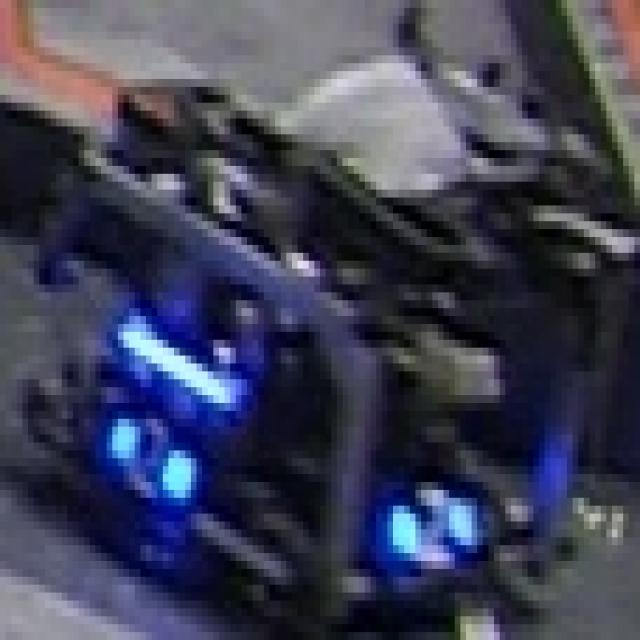B2: (379, 462, 491, 589), (93, 391, 199, 502)
